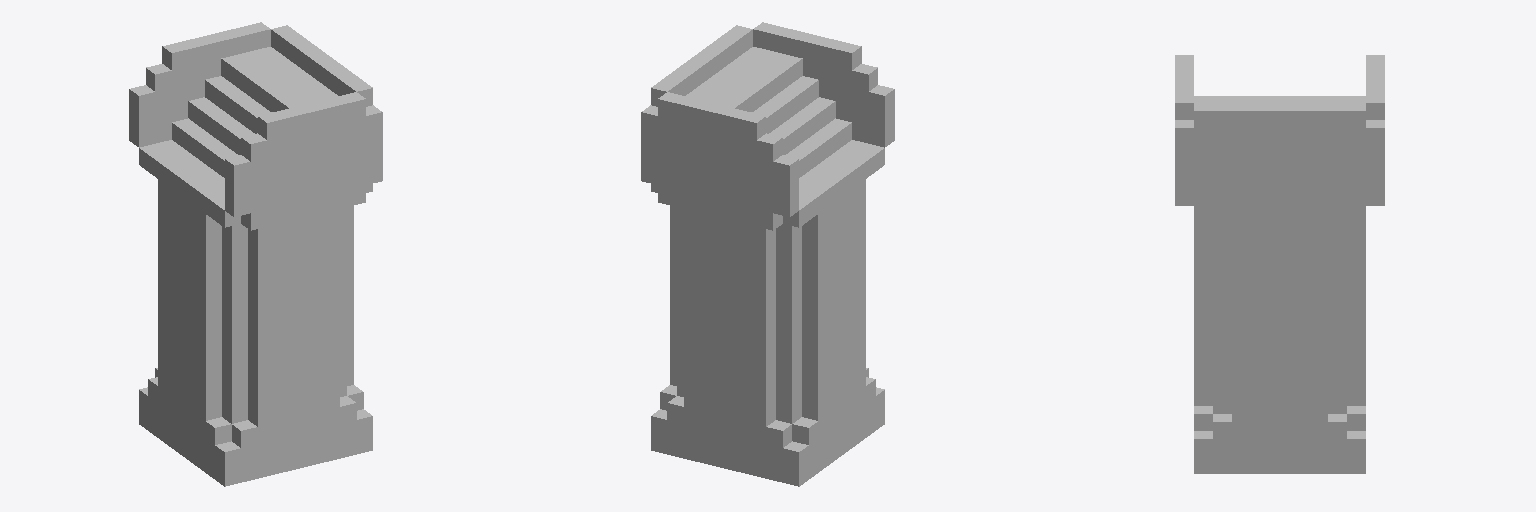
Rendered from Uprav_canter_draft-3.obj.
3 renders of one model, left to right at view 1: azimuth 30°, elevation 25°; view 2: azimuth 150°, elevation 25°; view 3: azimuth 270°, elevation 25°, orthographic.
Visible parts, largest first — view 1: object 1; view 2: object 1; view 3: object 1.
Part boxes in pixels (left/top/right/bottom): object 1: left=129, top=22, right=382, bottom=486; object 1: left=641, top=22, right=894, bottom=486; object 1: left=1175, top=55, right=1384, bottom=473.
Bounding box in the file's own units: 0.9 × 2.1 × 1.1.